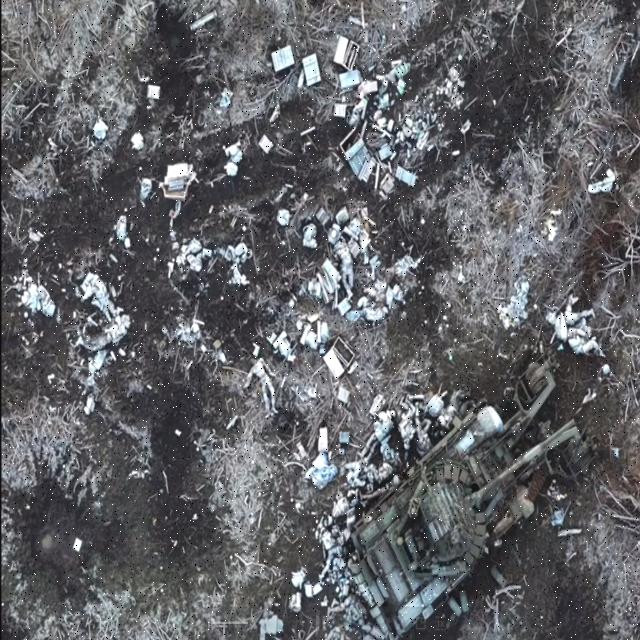MBT: (351, 411, 581, 636)
